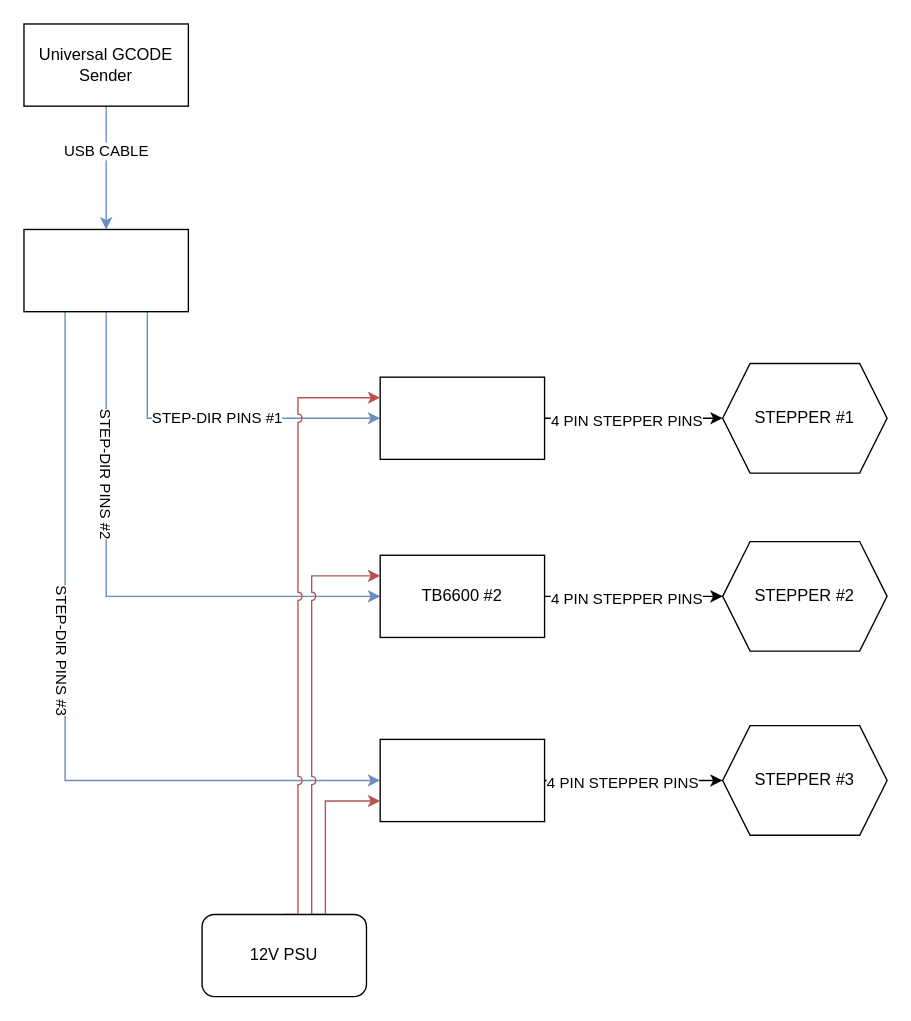
This 911x1021 diagram has some shape labels left out. Here are the shapes that lost their labels. From the top down, the box of each, then its label:
(23, 228, 188, 312): Arduino Uno
(379, 376, 545, 459): TB6600 #1
(379, 738, 545, 822): TB6600 #3
